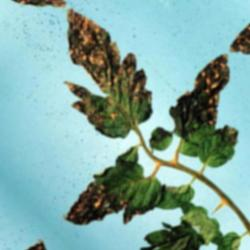Tomato Septoria leaf spot: (11, 0, 181, 162), (51, 133, 177, 250), (139, 42, 250, 170)
